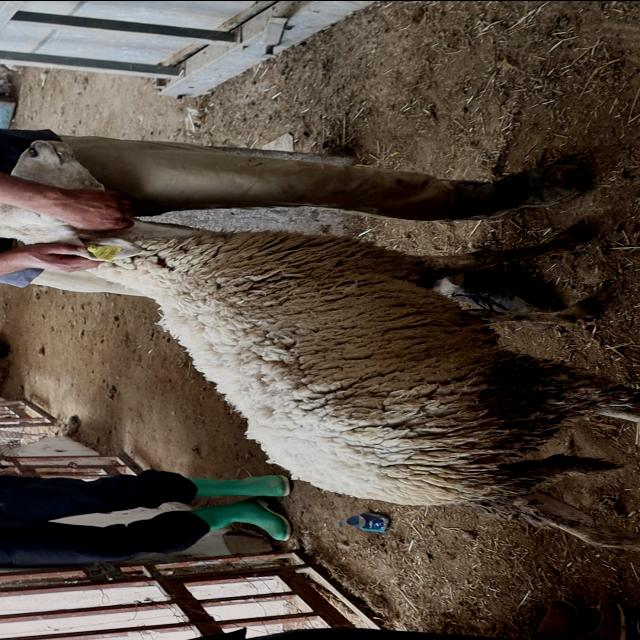Score_4: (0, 203, 639, 549)
